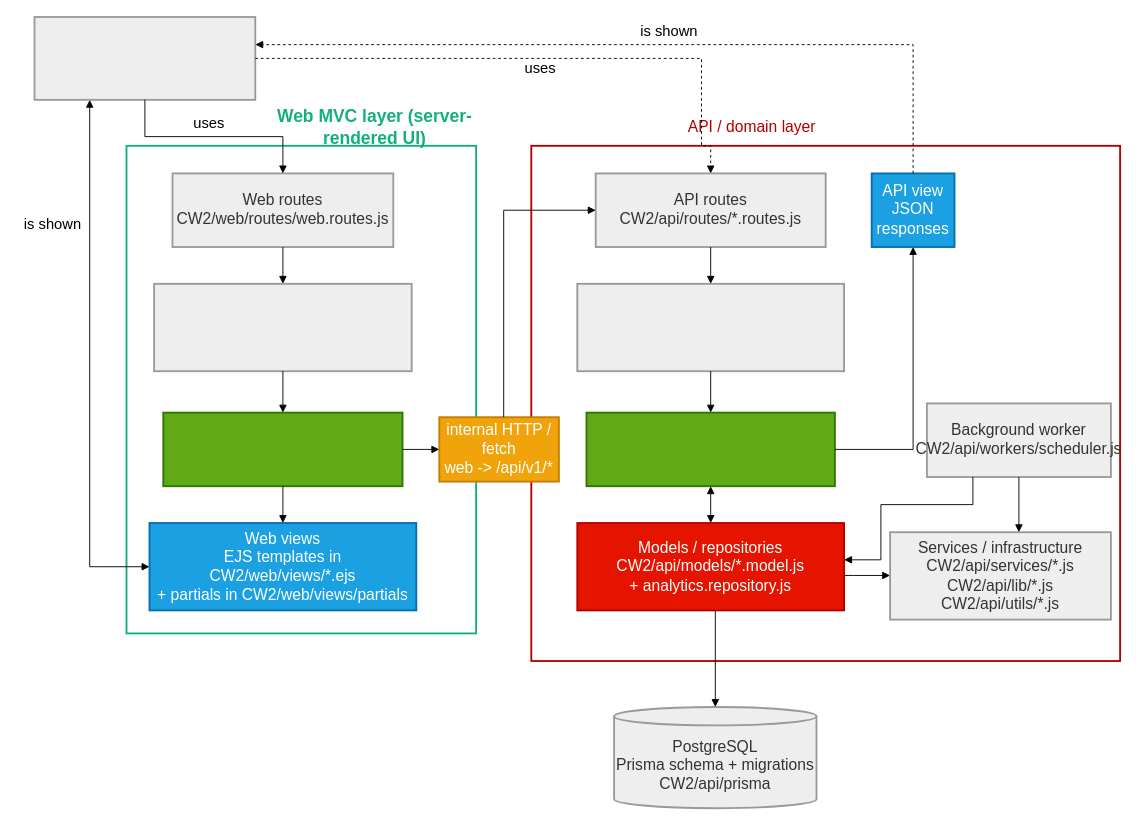
This 1137x824 diagram has some shape labels left out. The shapes that lost their labels are listed below. From the top down, each one's box as (x1, y1, x2, y2) in pixels, then its label:
(33, 16, 256, 100): Client Browser / API Consumer
(153, 282, 412, 372): Web middleware + schemas CW2/web/middleware/*.js CW2/web/schemas/*.js
(576, 282, 845, 372): API middleware + schemas CW2/api/middleware/*.js CW2/api/schemas/*.js
(162, 411, 403, 487): Web controller CW2/web/controllers/web.controller.js
(585, 411, 835, 487): API controllers CW2/api/controllers/*.controller.js
